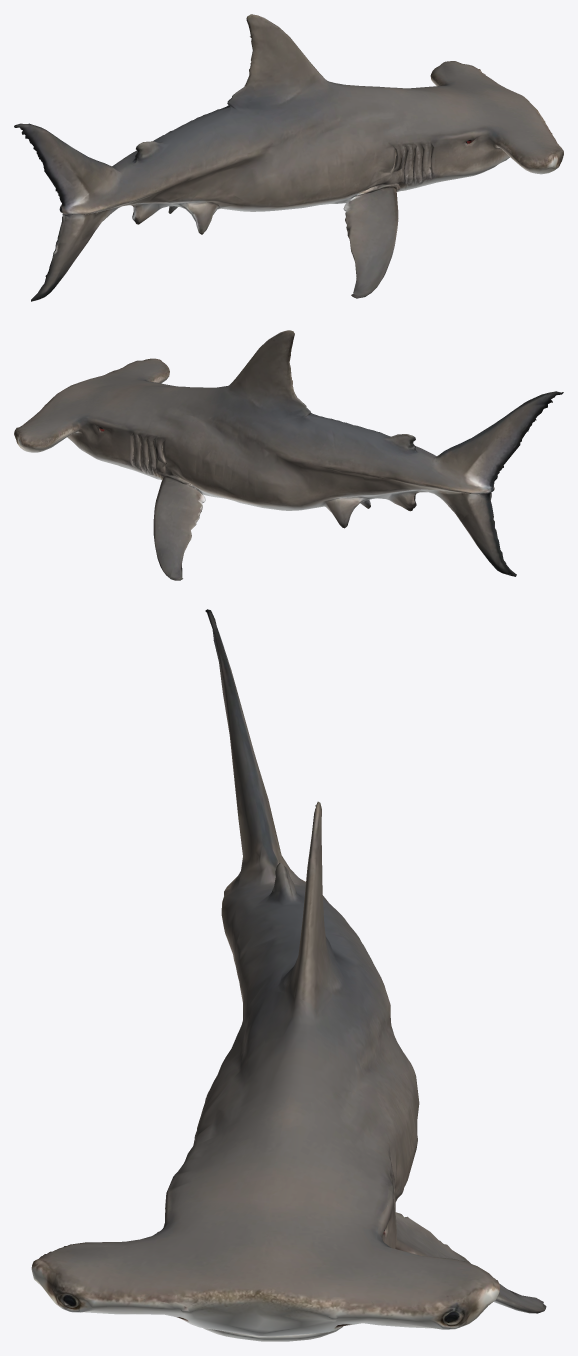
The model's file is hammerhead.glb.
3 renders of one model, top to bottom at view 1: azimuth 30°, elevation 25°; view 2: azimuth 150°, elevation 25°; view 3: azimuth 270°, elevation 25°, orthographic. The views are drawn at different scales.
Visible parts, largest first — view 1: tripo_node_1aa879e1-9f1c-4aa3-9a6f-eb18ec477d76; view 2: tripo_node_1aa879e1-9f1c-4aa3-9a6f-eb18ec477d76; view 3: tripo_node_1aa879e1-9f1c-4aa3-9a6f-eb18ec477d76.
Part boxes in pixels (box(x1,y1,x2,y2)): tripo_node_1aa879e1-9f1c-4aa3-9a6f-eb18ec477d76: box(14, 14, 563, 301); tripo_node_1aa879e1-9f1c-4aa3-9a6f-eb18ec477d76: box(14, 330, 563, 580); tripo_node_1aa879e1-9f1c-4aa3-9a6f-eb18ec477d76: box(31, 609, 546, 1341).
Bounding box in the file's own units: 1 × 0.4375 × 0.4559.
Materials: 1 (1 with a texture image).
